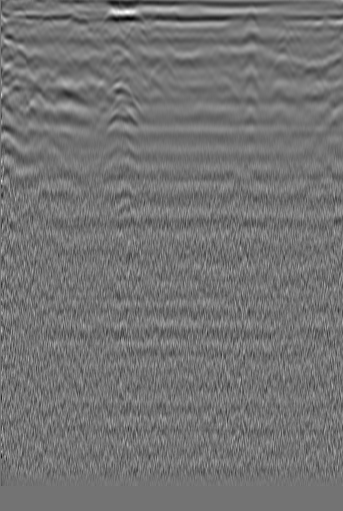가스: (98, 129, 132, 173)
상수: (3, 43, 36, 78)
오수: (299, 20, 321, 53)
우수: (154, 39, 182, 68)
